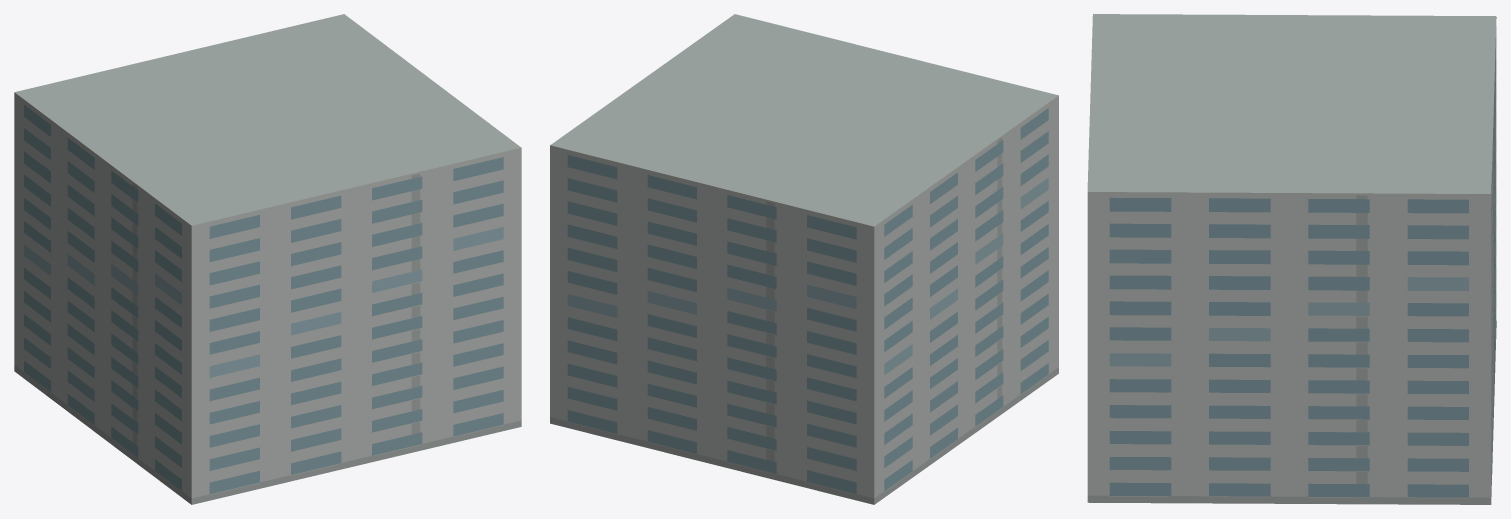
File: residential-ee80d69b-6b29-493f-bc51-c3770fb1f7f5.glb
3 views of the same model, side by side, from view 1: azimuth 30°, elevation 25°; view 2: azimuth 150°, elevation 25°; view 3: azimuth 270°, elevation 25° (orthographic). The views are drawn at different scales.
Visible parts, largest first — view 1: residential-ee80d69b-6b29-493f-bc51-c3770fb1f7f5.tmp; view 2: residential-ee80d69b-6b29-493f-bc51-c3770fb1f7f5.tmp; view 3: residential-ee80d69b-6b29-493f-bc51-c3770fb1f7f5.tmp.
Boxes of the visible parts, <box> form: residential-ee80d69b-6b29-493f-bc51-c3770fb1f7f5.tmp: <box>14,14,521,504</box>; residential-ee80d69b-6b29-493f-bc51-c3770fb1f7f5.tmp: <box>550,14,1058,504</box>; residential-ee80d69b-6b29-493f-bc51-c3770fb1f7f5.tmp: <box>1087,14,1496,504</box>.
Bounding box in the file's own units: 45.99 × 37 × 44.13.
